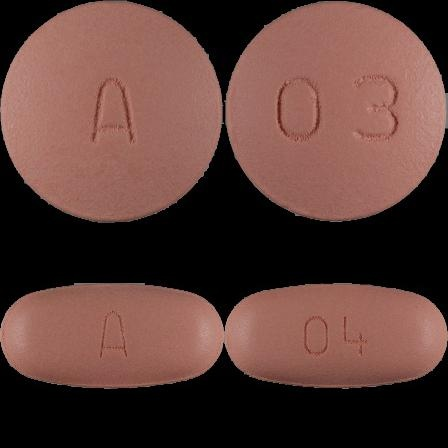65862-053: (0, 0, 224, 224)
